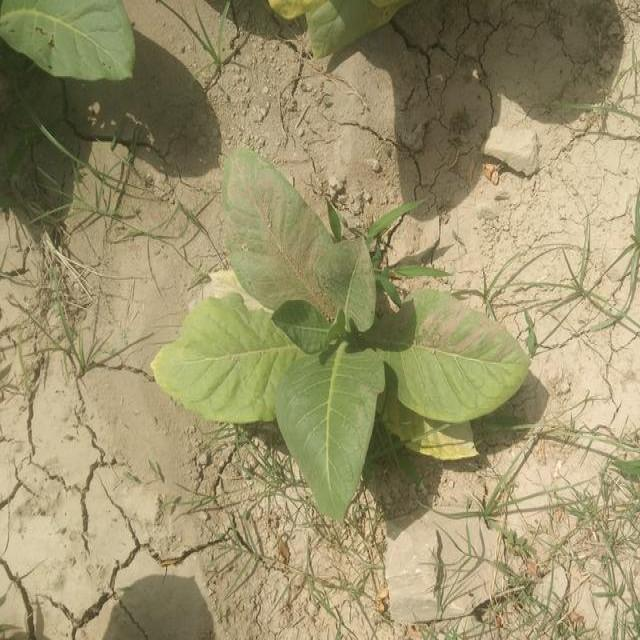crop: (170, 148, 532, 519), (2, 0, 137, 88)
